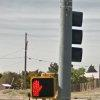Traffic light: (61, 3, 94, 68)
